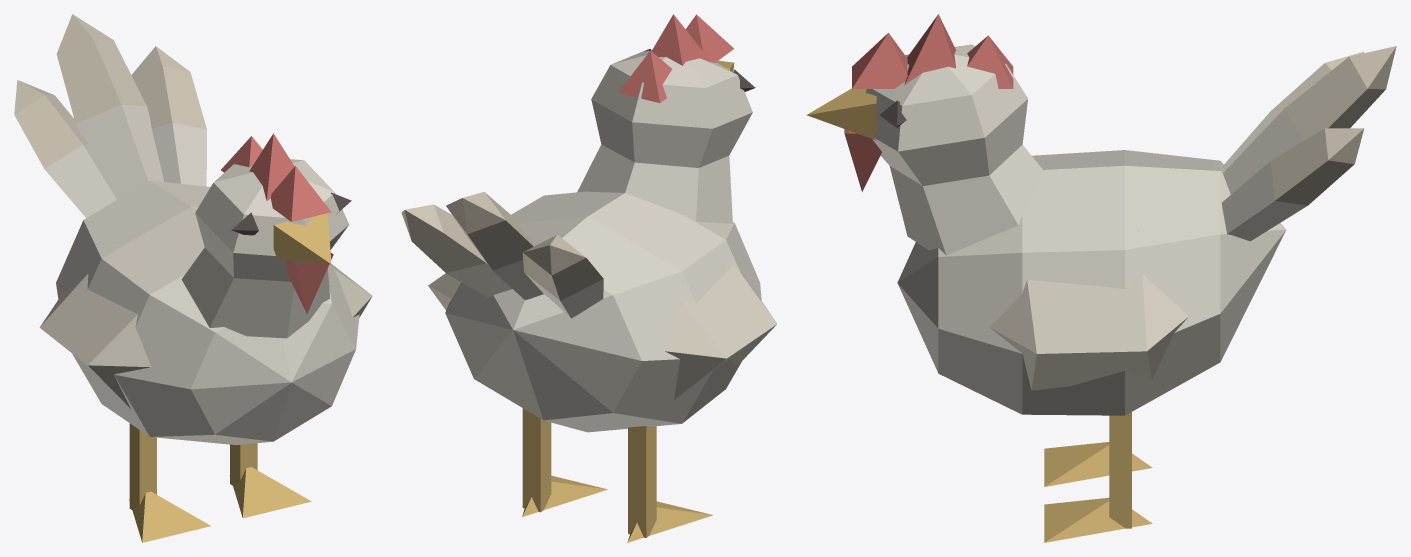
File: prop_hen.glb
The picture shows the model from 3 angles, left to right: view 1: azimuth 30°, elevation 25°; view 2: azimuth 150°, elevation 25°; view 3: azimuth 270°, elevation 25°; orthographic projection. The views are drawn at different scales.
Visible parts, largest first — view 1: prop_hen; view 2: prop_hen; view 3: prop_hen.
Part boxes in pixels (x1=…): prop_hen: x1=14, y1=14, x2=372, y2=542; prop_hen: x1=401, y1=14, x2=777, y2=542; prop_hen: x1=806, y1=14, x2=1396, y2=542.
Bounding box in the file's own units: 0.255 × 0.362 × 0.402.
